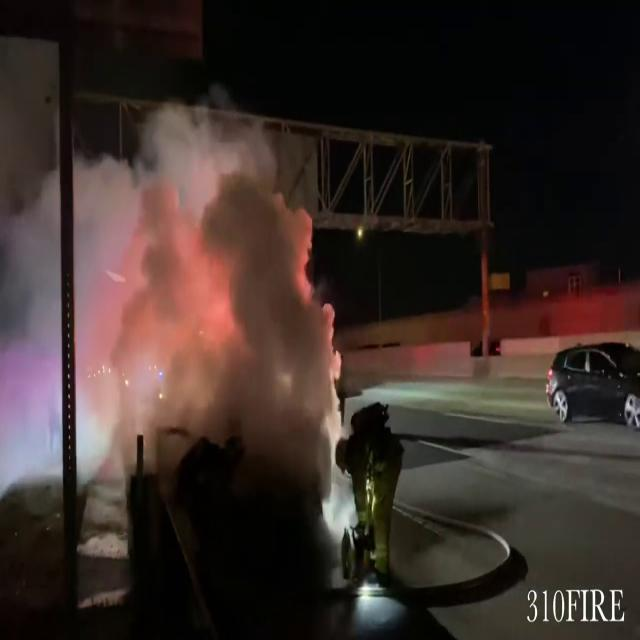Smoke: (1, 93, 332, 474)
